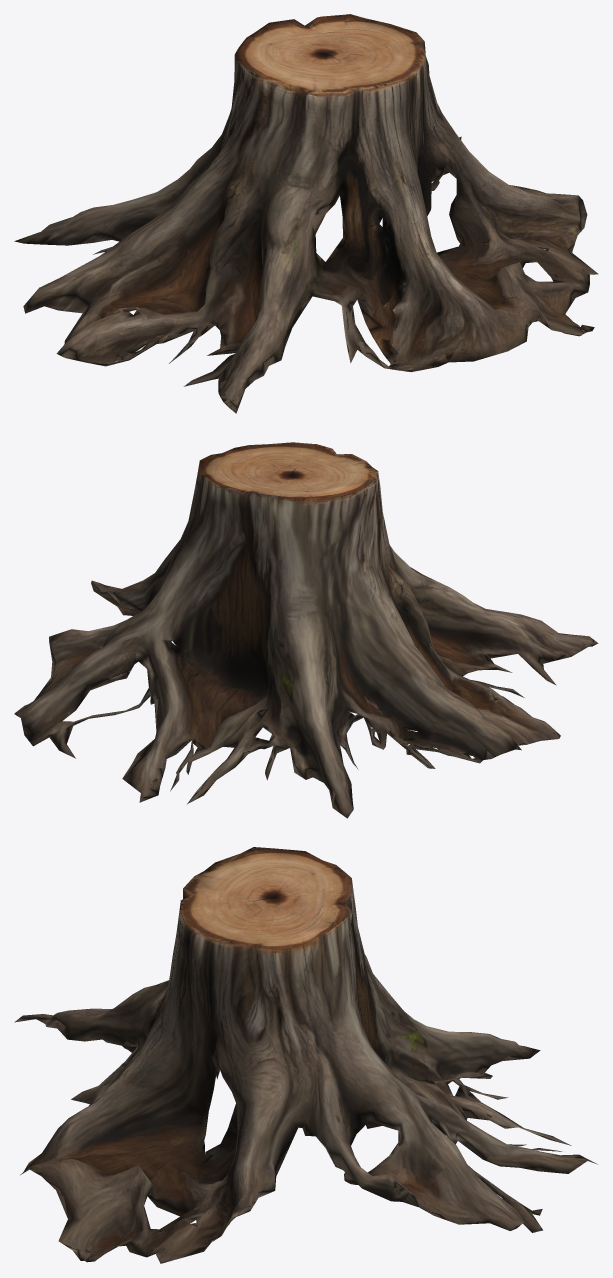
The model's file is Hollow_Stump.glb.
The picture shows the model from 3 angles, top to bottom: view 1: azimuth 30°, elevation 25°; view 2: azimuth 150°, elevation 25°; view 3: azimuth 270°, elevation 25°; orthographic projection. The views are drawn at different scales.
Size of the model in its own units: 1.97 by 0.9745 by 1.81.
Materials: 1 (1 with a texture image).
